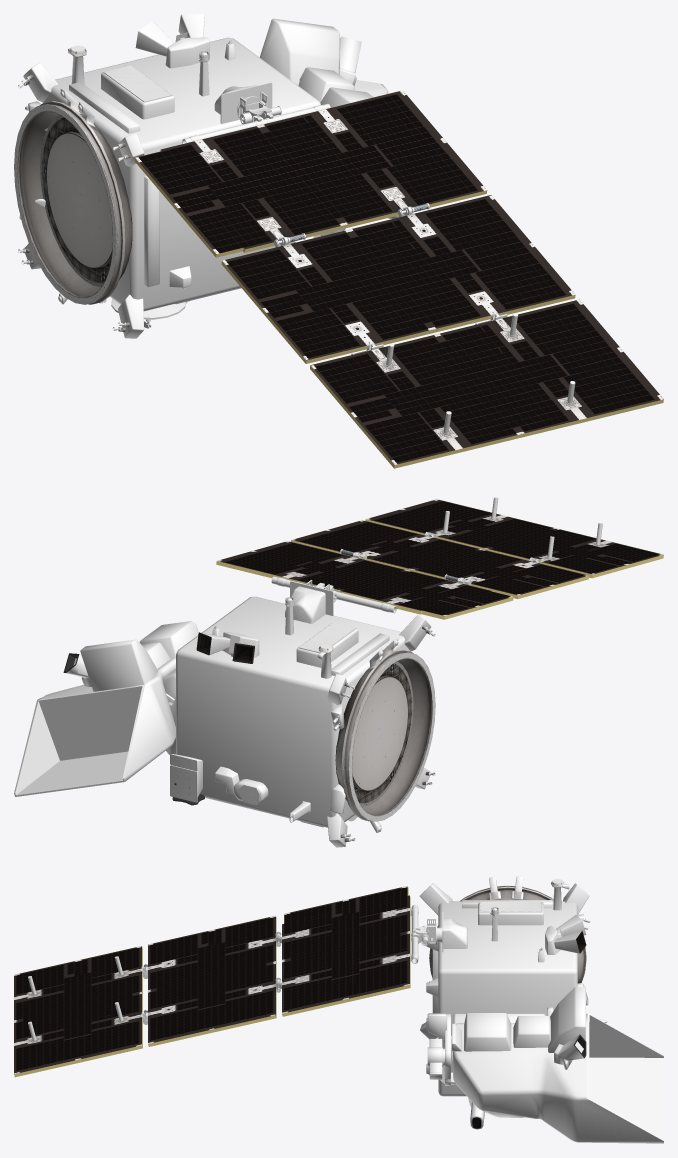
The model's file is pace.gltf.
3 renders of one model, top to bottom at view 1: azimuth 30°, elevation 25°; view 2: azimuth 150°, elevation 25°; view 3: azimuth 270°, elevation 25°, orthographic. The views are drawn at different scales.
Visible parts, largest first — view 1: array, BUS, Cylinder.034, Cube.006; view 2: BUS, array, Cylinder.034, Cylinder.026; view 3: BUS, array, Cylinder.034.
Boxes of the visible parts, x1,y1,x2,y2 form: array: (134,90,663,468); BUS: (19,14,404,338); Cylinder.034: (14,45,171,331); Cube.006: (220,82,272,123); BUS: (14,586,431,847); array: (216,499,663,619); Cylinder.034: (170,622,435,841); Cylinder.026: (271,576,396,613); BUS: (419,876,663,1143); array: (14,886,410,1077); Cylinder.034: (429,879,586,983).
Size of the model in its own units: 3.48 by 2.25 by 7.01.
Materials: 14 (3 with a texture image).
